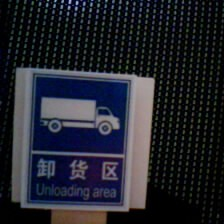unload: (24, 68, 138, 206)
